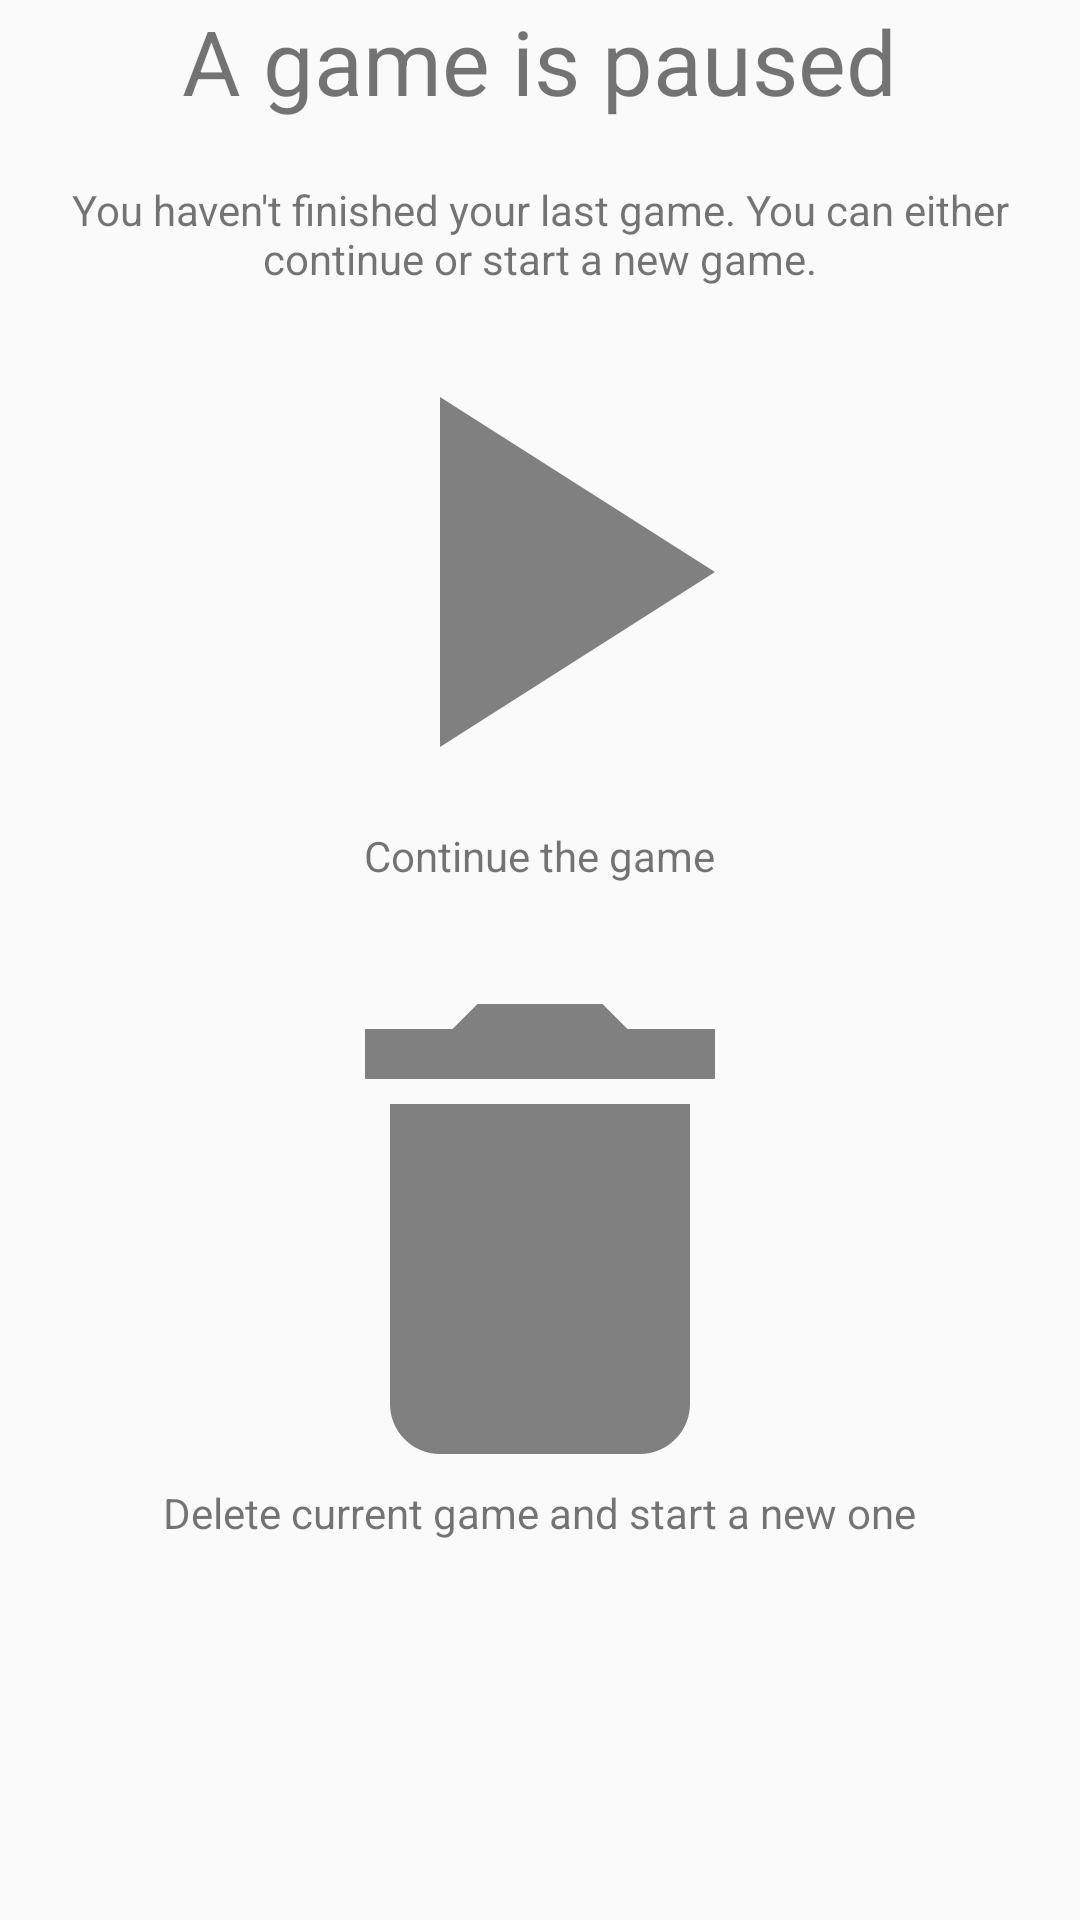

Point at icon controls on the screen. Image size 1080*1920, points as [x,y].
play arrow: [577,572]
